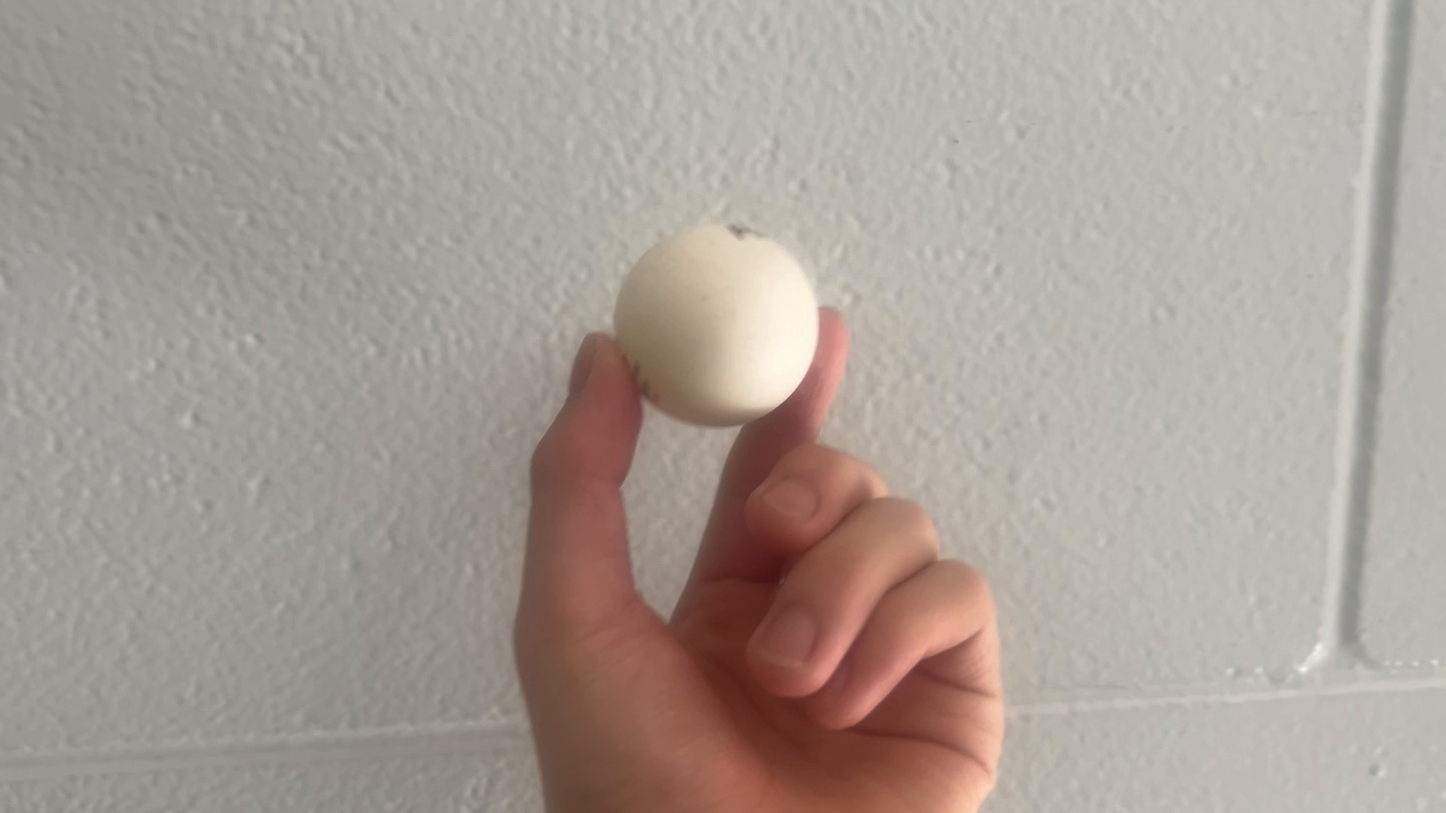Ball: (597, 207, 828, 449)
